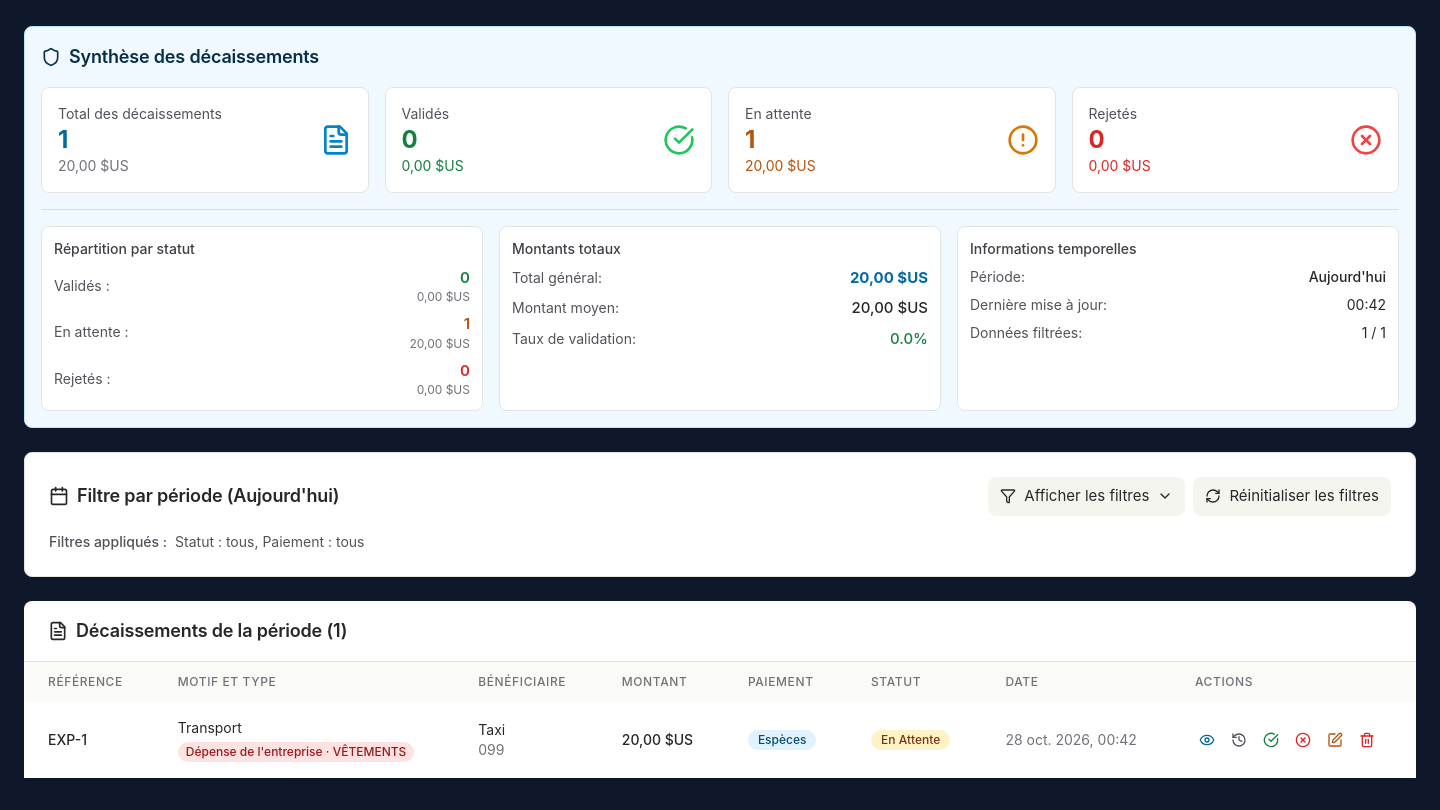
Test: Historique des décaissements: a failed edit is explained inside the dialog, which stays usable
The width and height of the screenshot is (1440, 810).
(page scrolled)
Click the button titled "Modifier le décaissement" at {"x": 1335, "y": 740}, box [1323,728,1347,752]
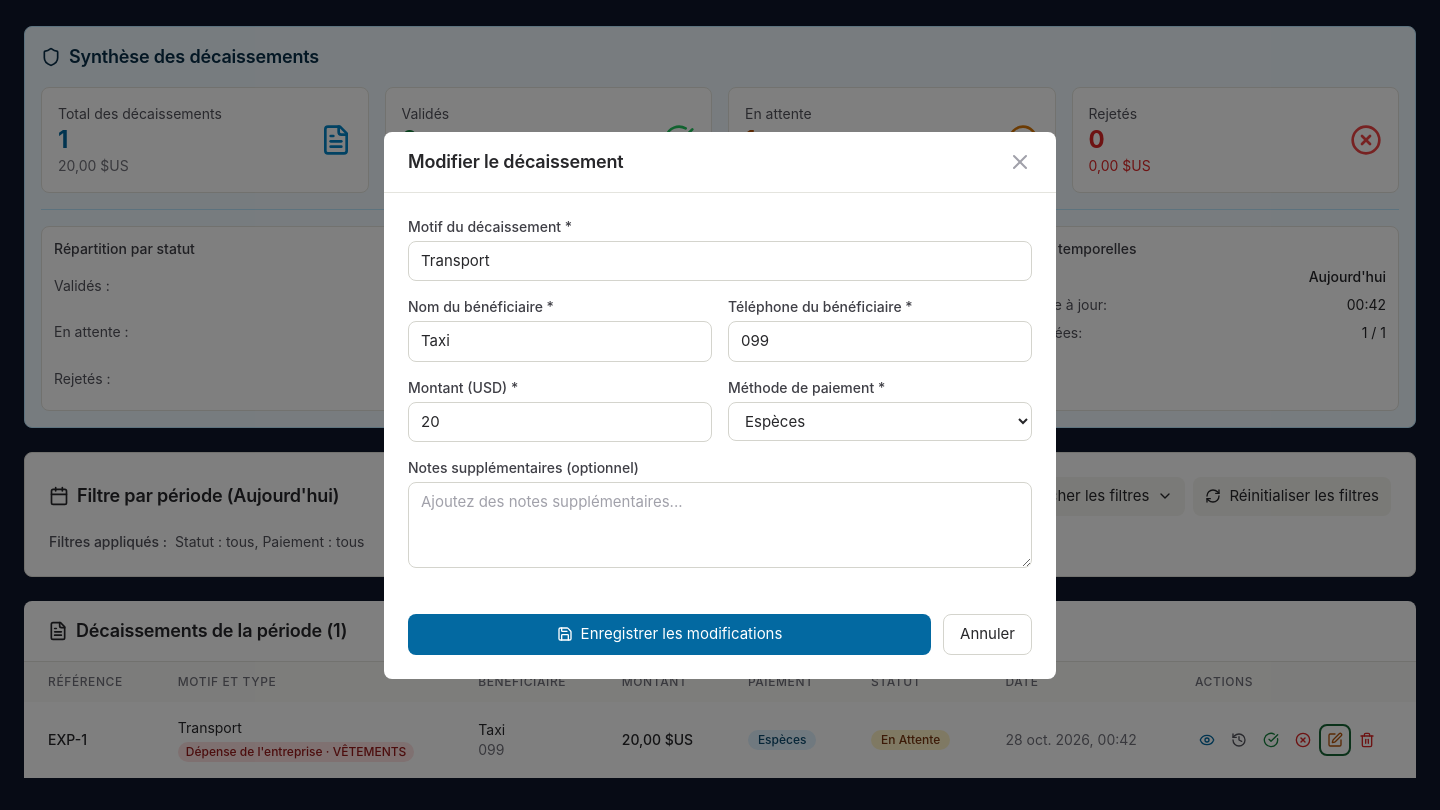
Replace the text in the field labelled "Motif du décaissement *" with "Transport client" at {"x": 720, "y": 261}, box [408,240,1032,281]
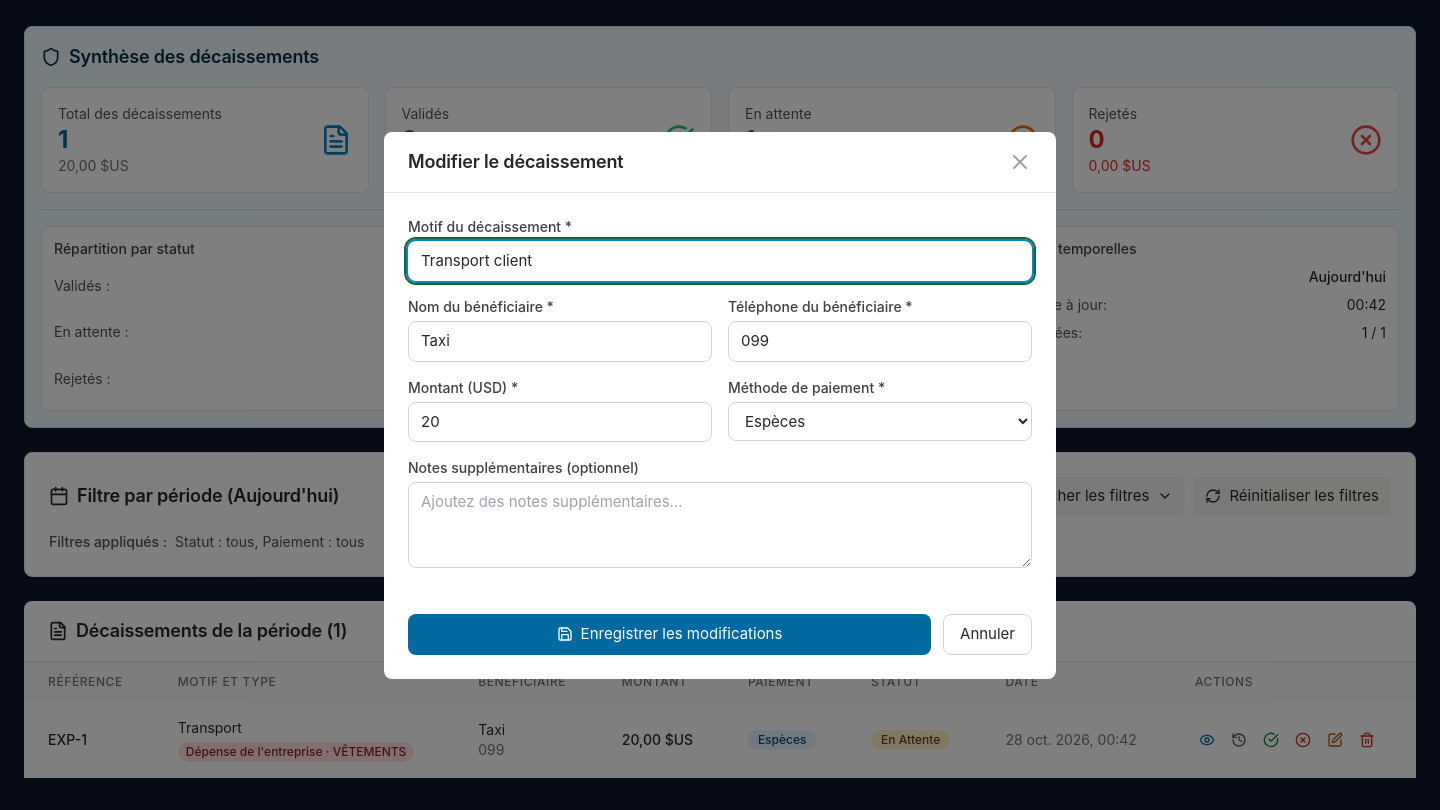
Click the button "Enregistrer les modifications" at {"x": 670, "y": 634}, box [408,614,931,654]
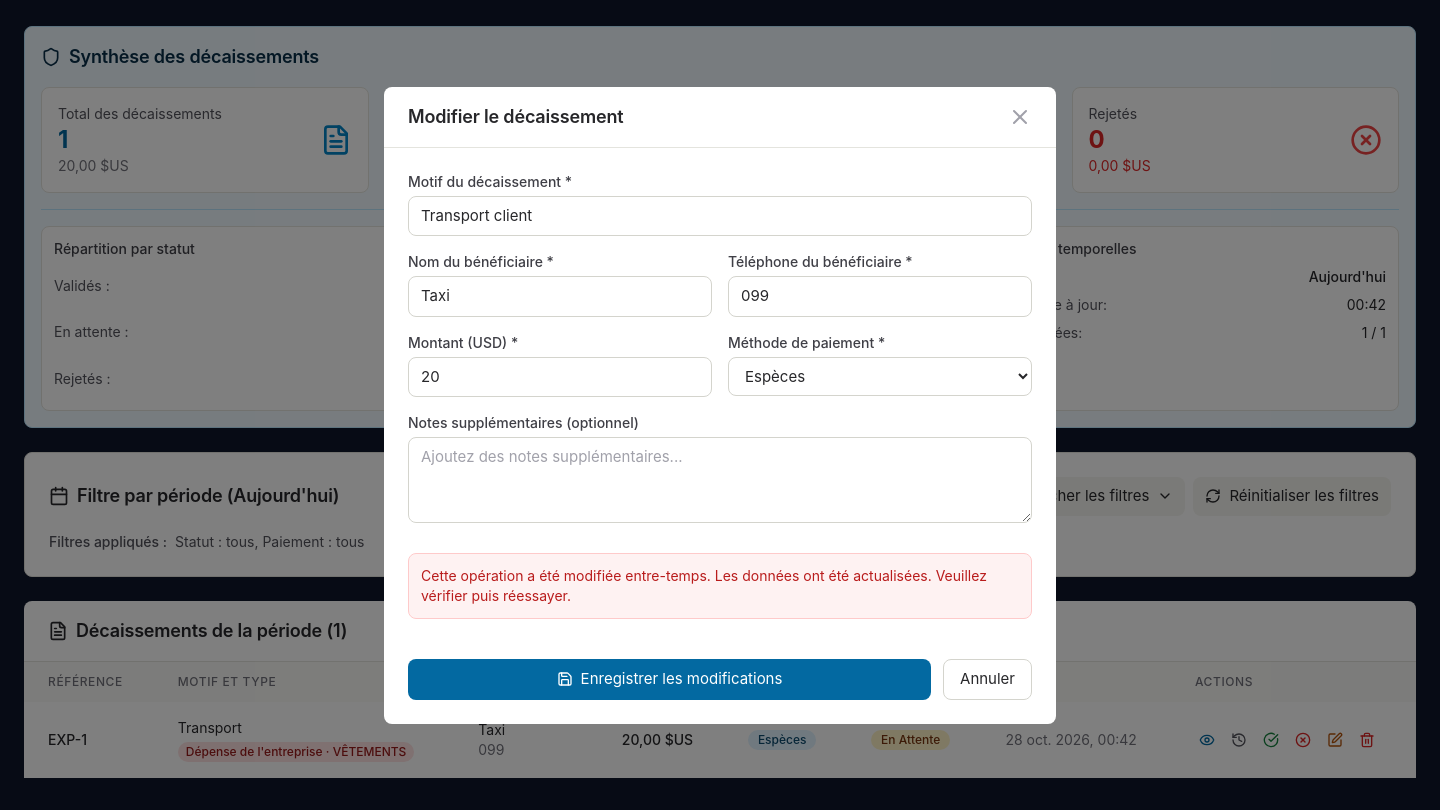
Expected: the message shows "Cette opération a été modifiée entre-temps", [421,567,987,604]
Note: The list was refreshed after the conflict and the dialog can be retried.
Click the button "Enregistrer les modifications" at {"x": 670, "y": 679}, box [408,659,931,700]
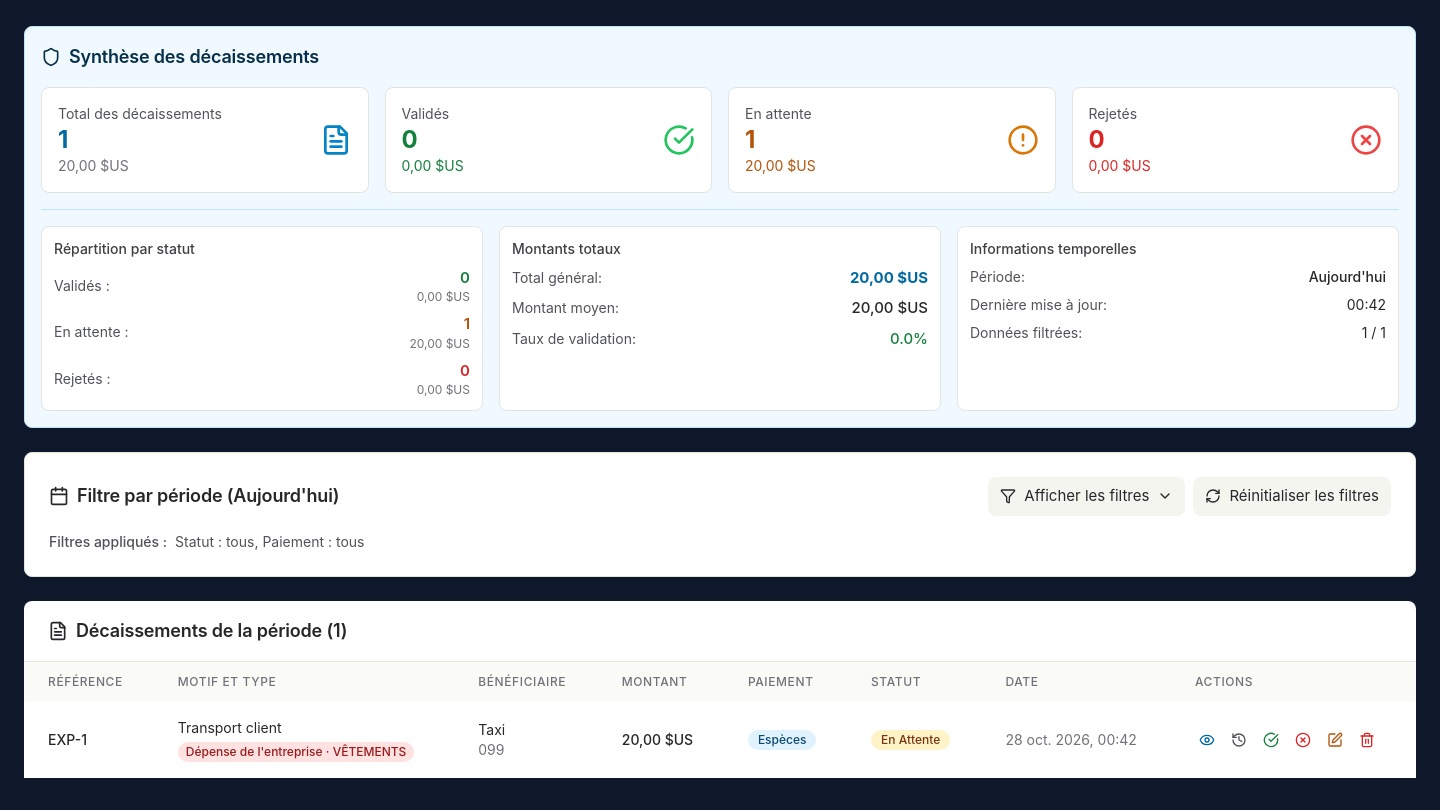
Expected: the heading "Modifier le décaissement" is gone
Expected: the text "Transport client" is shown, [178,718,282,736]
